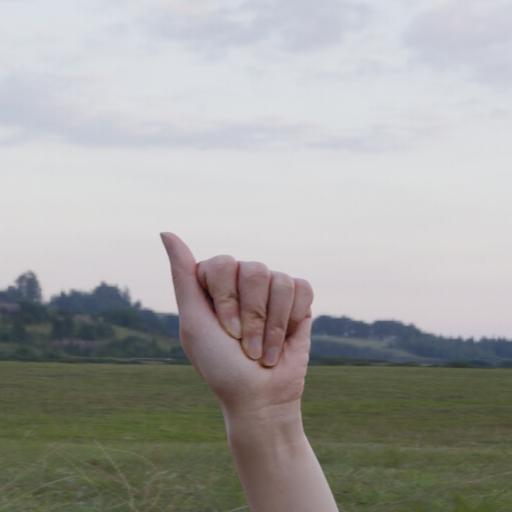A: (155, 230, 322, 419)
